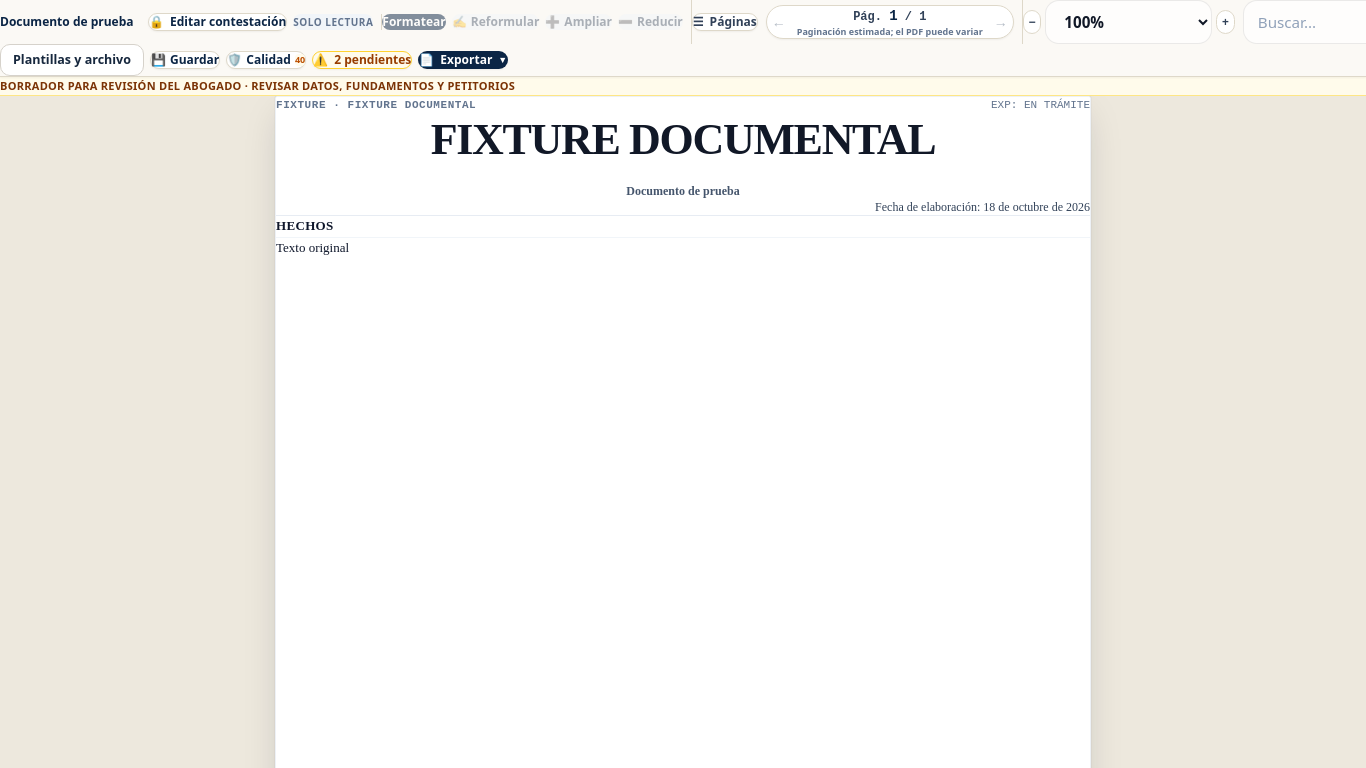
Test: pendientes antes de exportar: modal estándar .lex-modal; Esc y clic fuera cierran; las acciones siguen presentes
This screenshot has width=1366, height=768.
Click the button titled "Ver aspectos pendientes antes de exportar".
click(362, 60)  # box [312, 51, 412, 69]
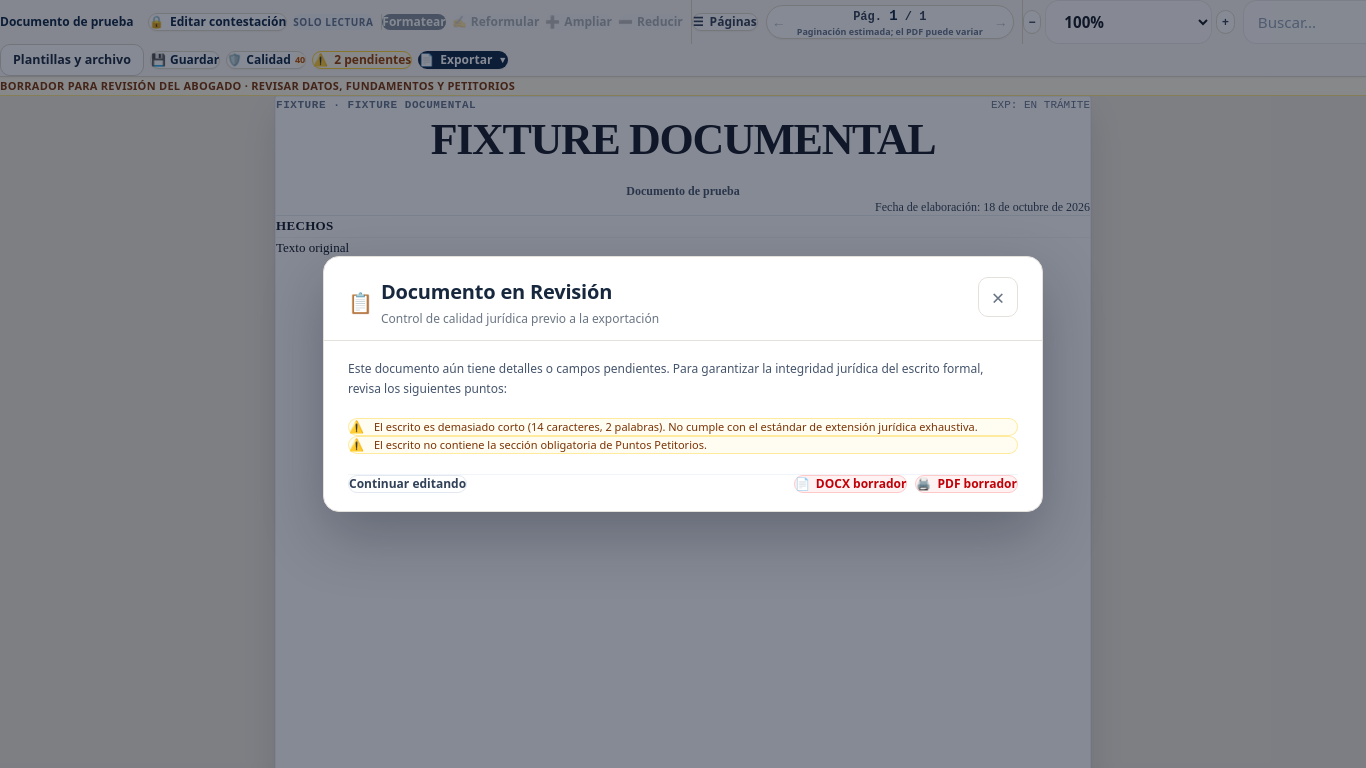
Check: the button "Continuar editando" is shown, box [348, 475, 467, 493]
Press Escape
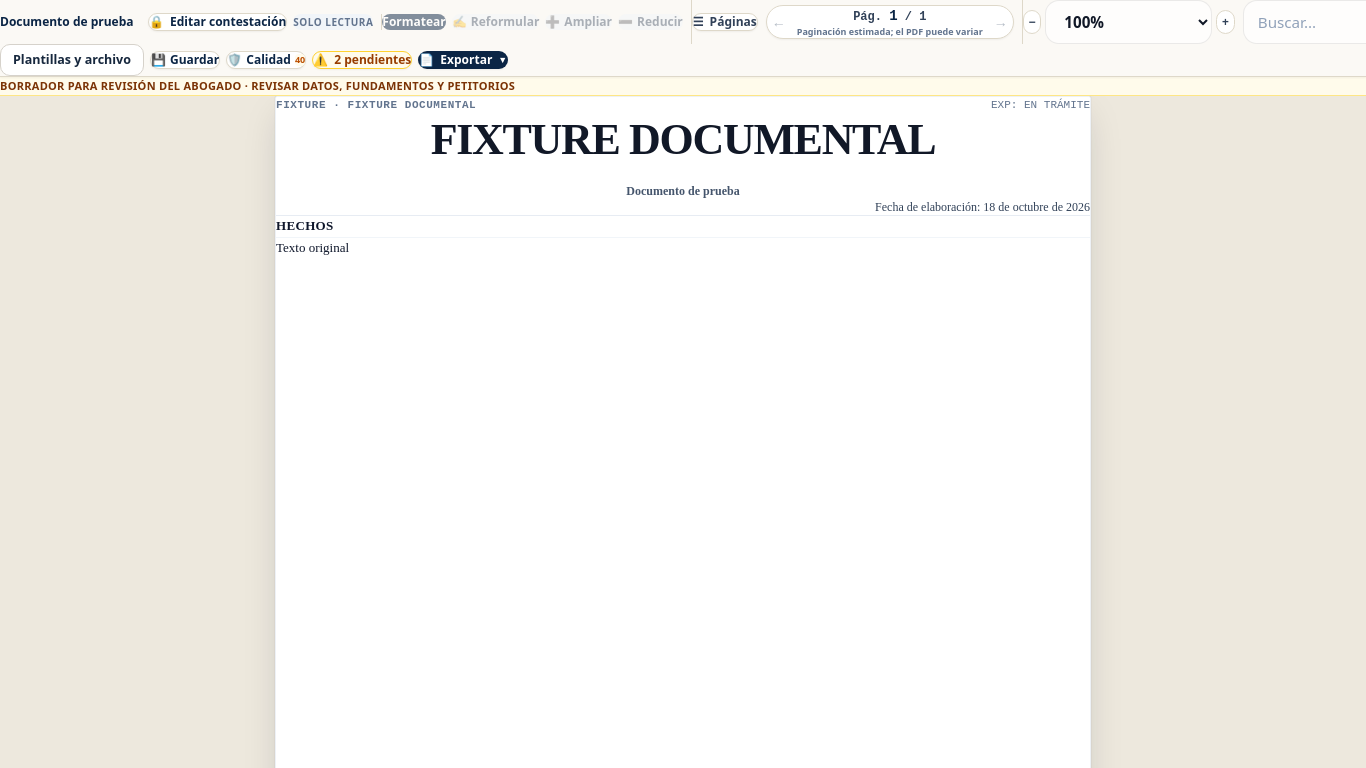
Check: the dialog is gone
Click the button titled "Ver aspectos pendientes antes de exportar".
click(362, 60)  # box [312, 51, 412, 69]
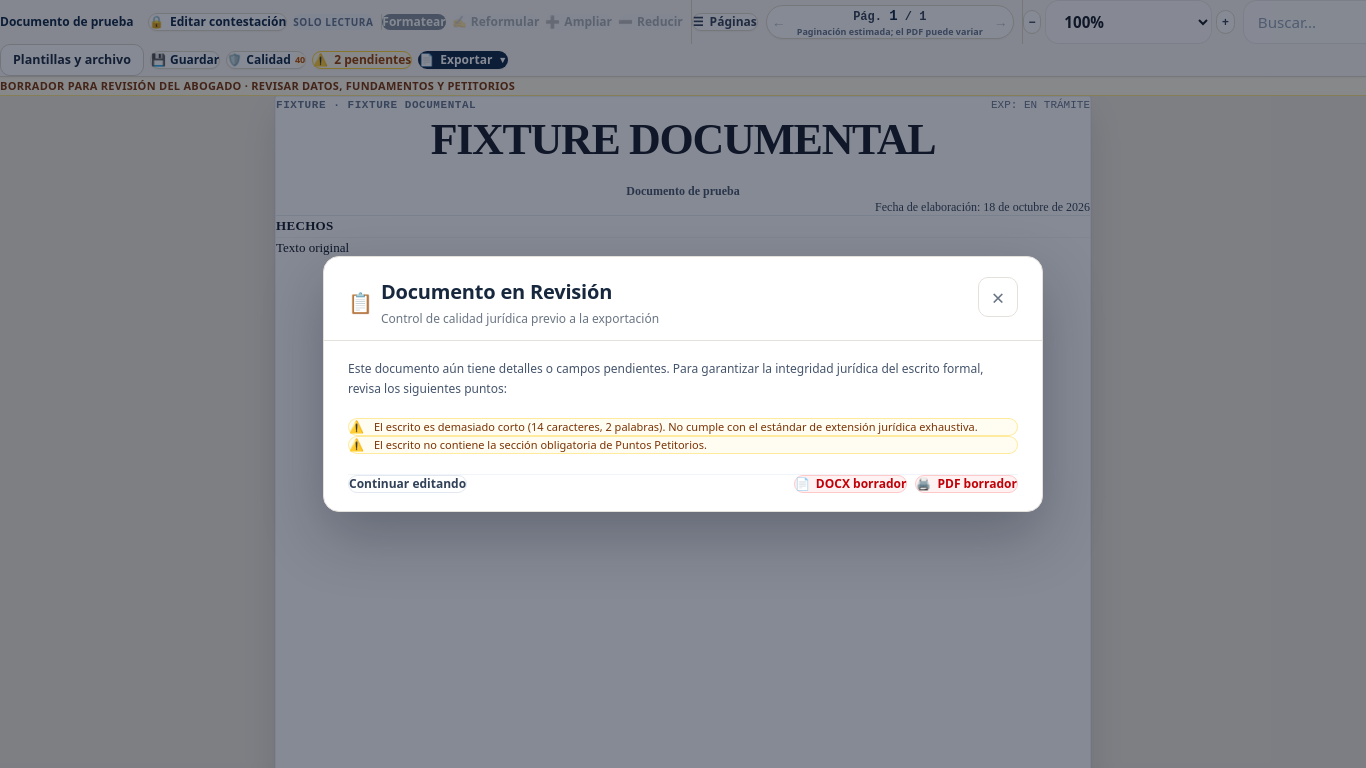
Press the mouse on the dialog at (683, 384), box [323, 256, 1043, 512]
Check: the dialog is shown, box [323, 256, 1043, 512]
Press the mouse on the element that starts with "Documento en Revisión" at (683, 384), box [0, 0, 1365, 767]
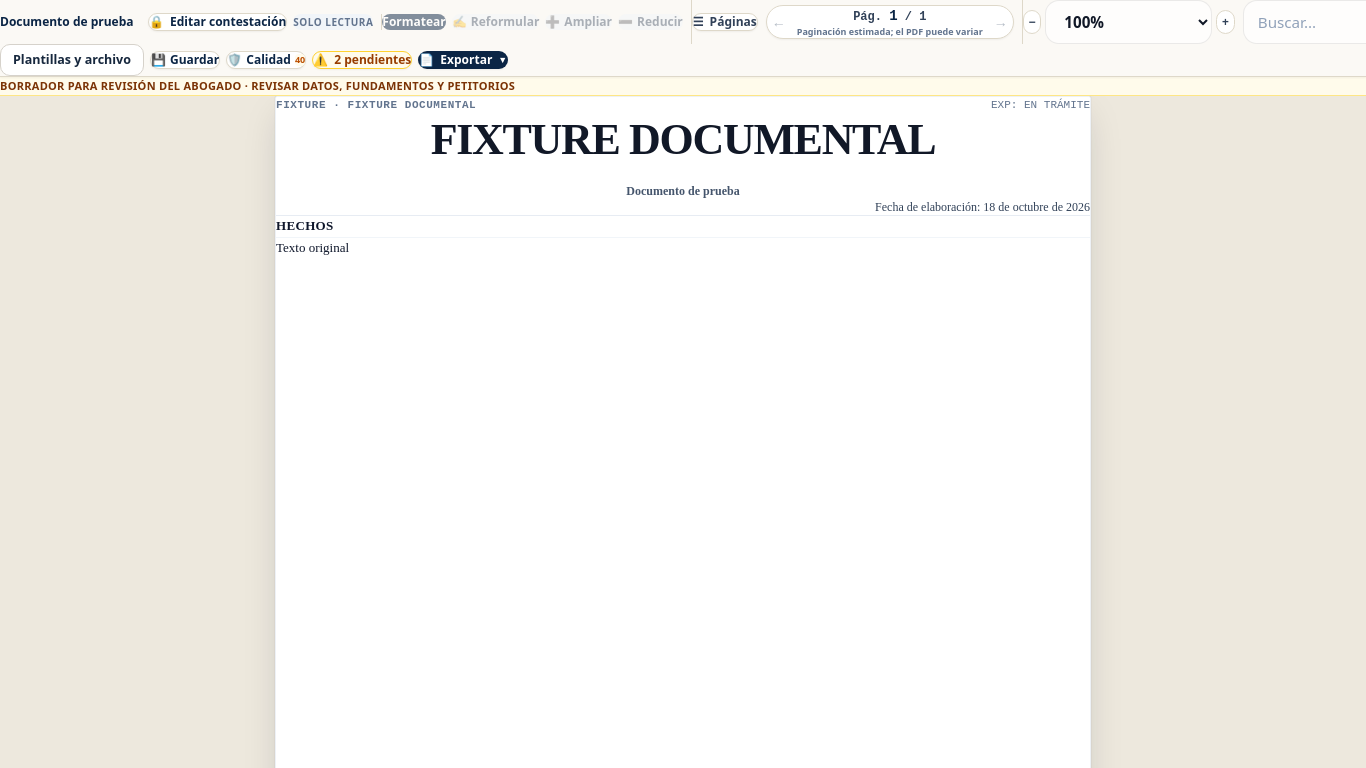
Check: the dialog is gone
